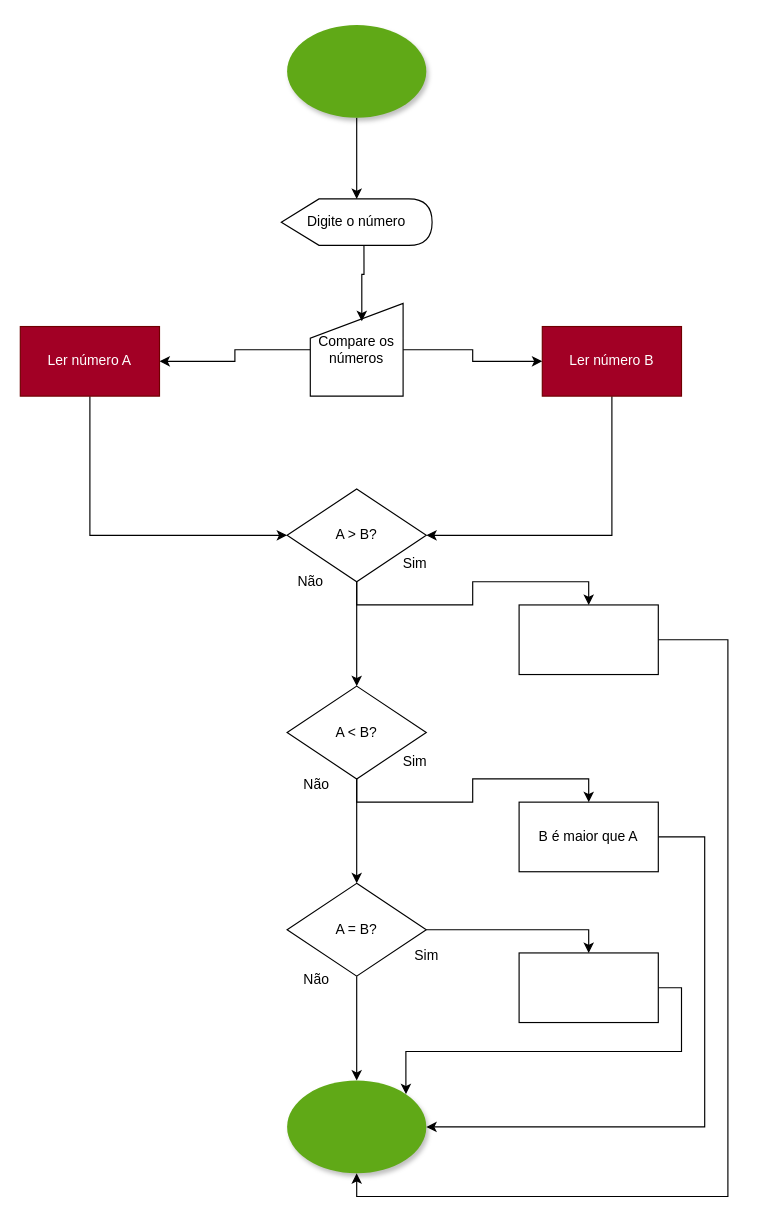
This 757x1226 diagram has some shape labels left out. Each missing label, with the centre of its shape:
"A é maior que B" goes at [588,639].
"B e A são iguais" goes at [588,987].
"FIM" goes at [357,1128].
"INICIO" goes at [357,72].
